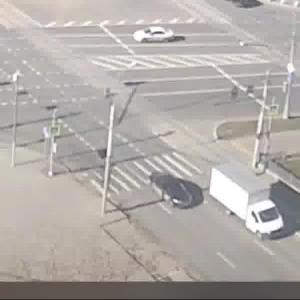car: (208, 166, 284, 243), (153, 171, 204, 211), (129, 27, 180, 46)
